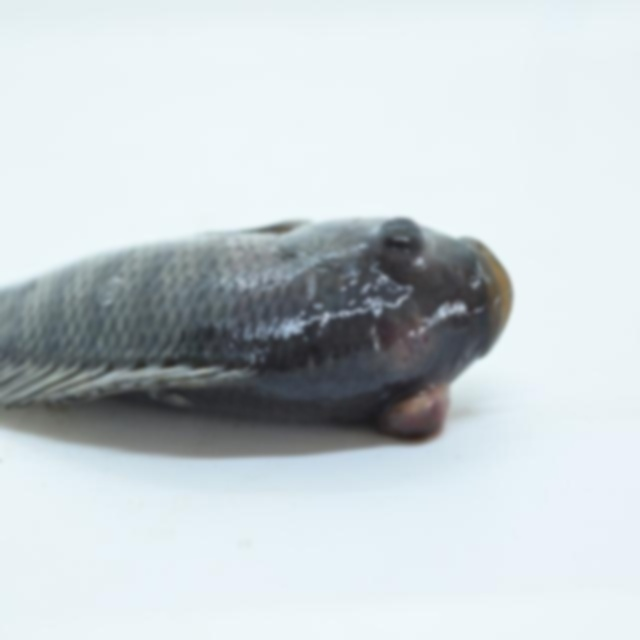streptococcus Disease: (0, 210, 516, 440)
